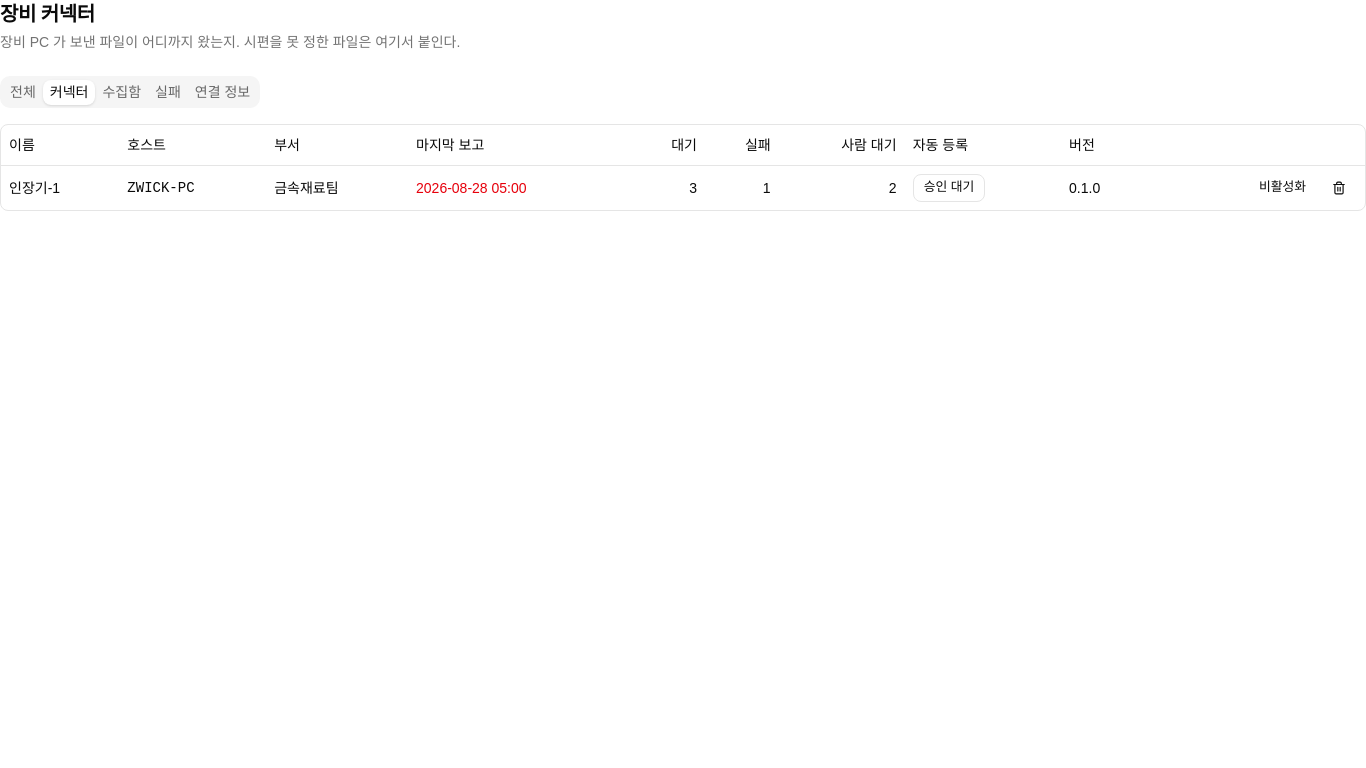
it: 커넥터 정리 › 무엇이 남는지 함께 묻는다
Check: the text "ZWICK-PC" is shown, box [119,165,266,210]
Click the button titled "목록에서 치웁니다".
click(1339, 188)  # box [1321,174,1357,202]
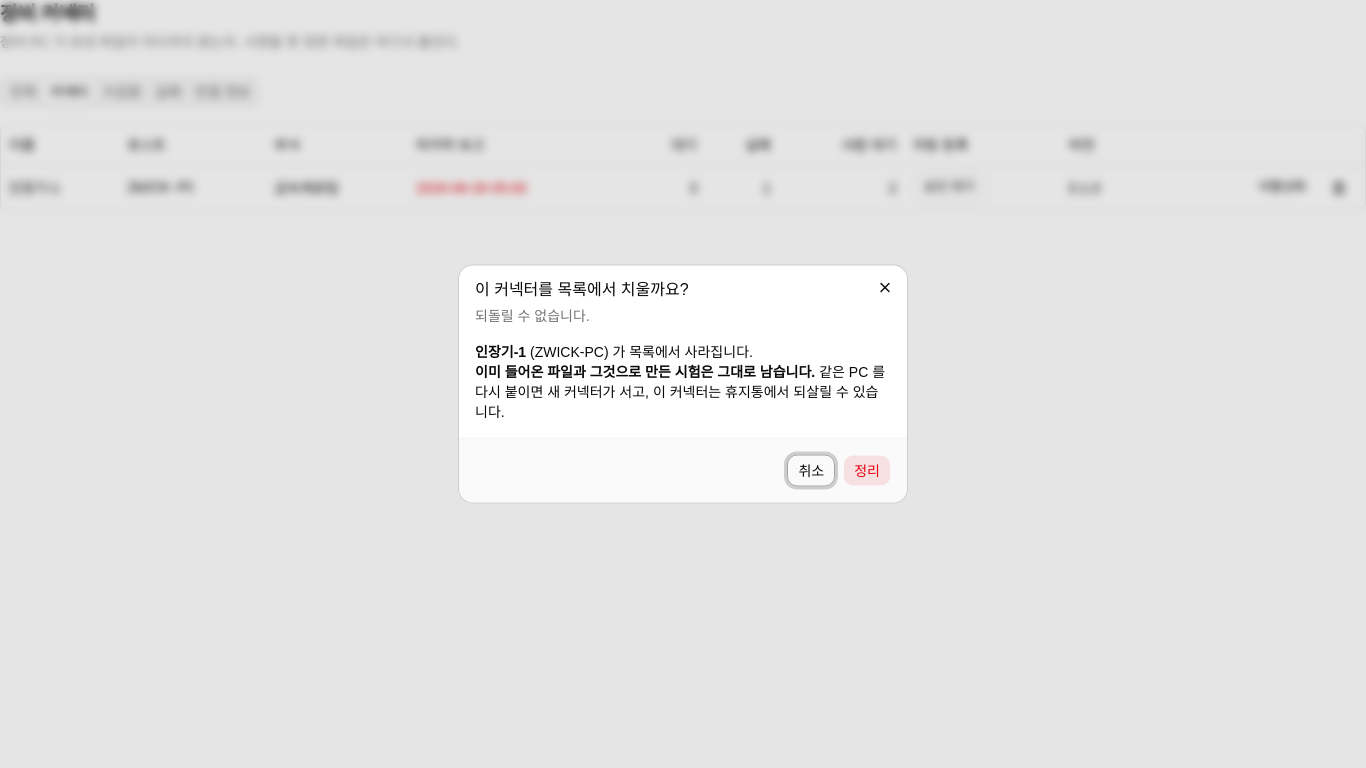
Check: the text "이미 들어온 파일과 그것으로 만든 시험은 그대로 남습니다." is shown, box [475,364,815,380]
